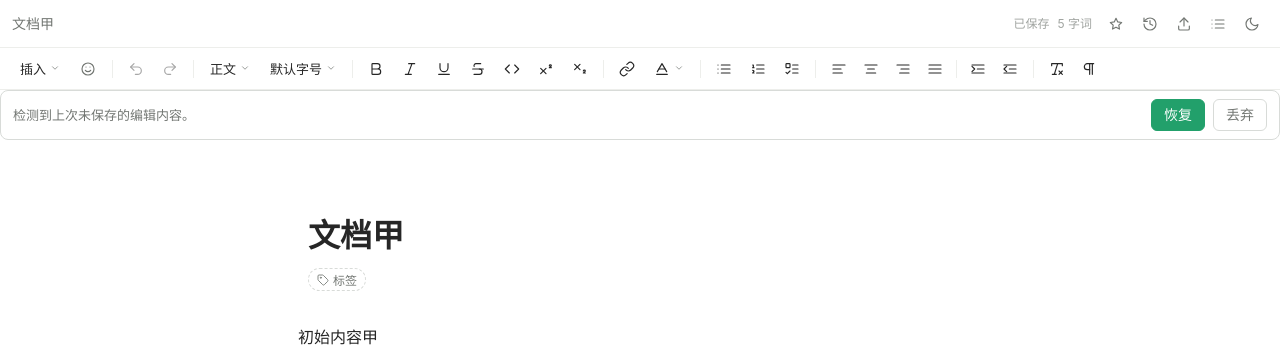
当前文档的外部 Vault 变更策略（R007 §3.4） › dirty + modified：不自动重载，显示冲突面板
Click the button "恢复".
click(1178, 115)  # box [1151,99,1205,131]
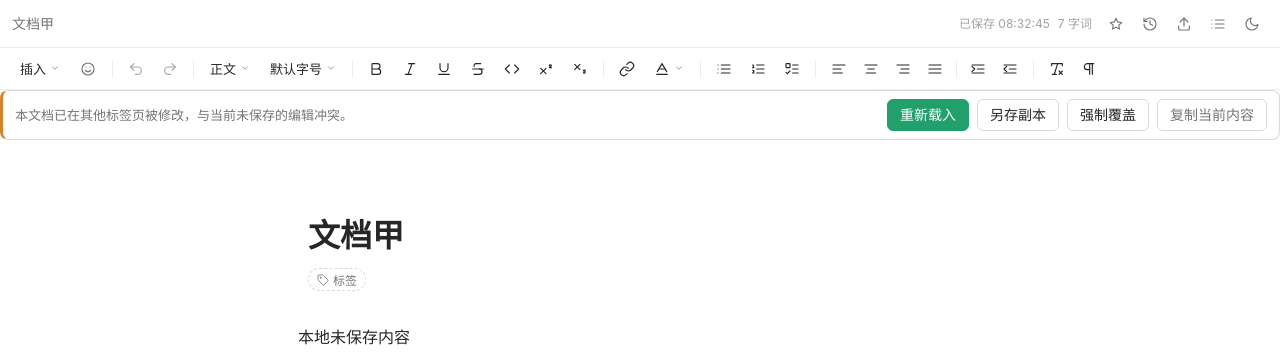
Expected: the text "保存中…" is shown, [959,12,1050,34]
Now the message "本文档已在其他标签页被修改，与当前未保存的编辑冲突。 重新载入 另存副本 强制覆盖 复制当前内容" is shown, box [0,90,1279,140]
Now the text box labelled "本地未保存内容" is shown, box [298,327,410,347]
